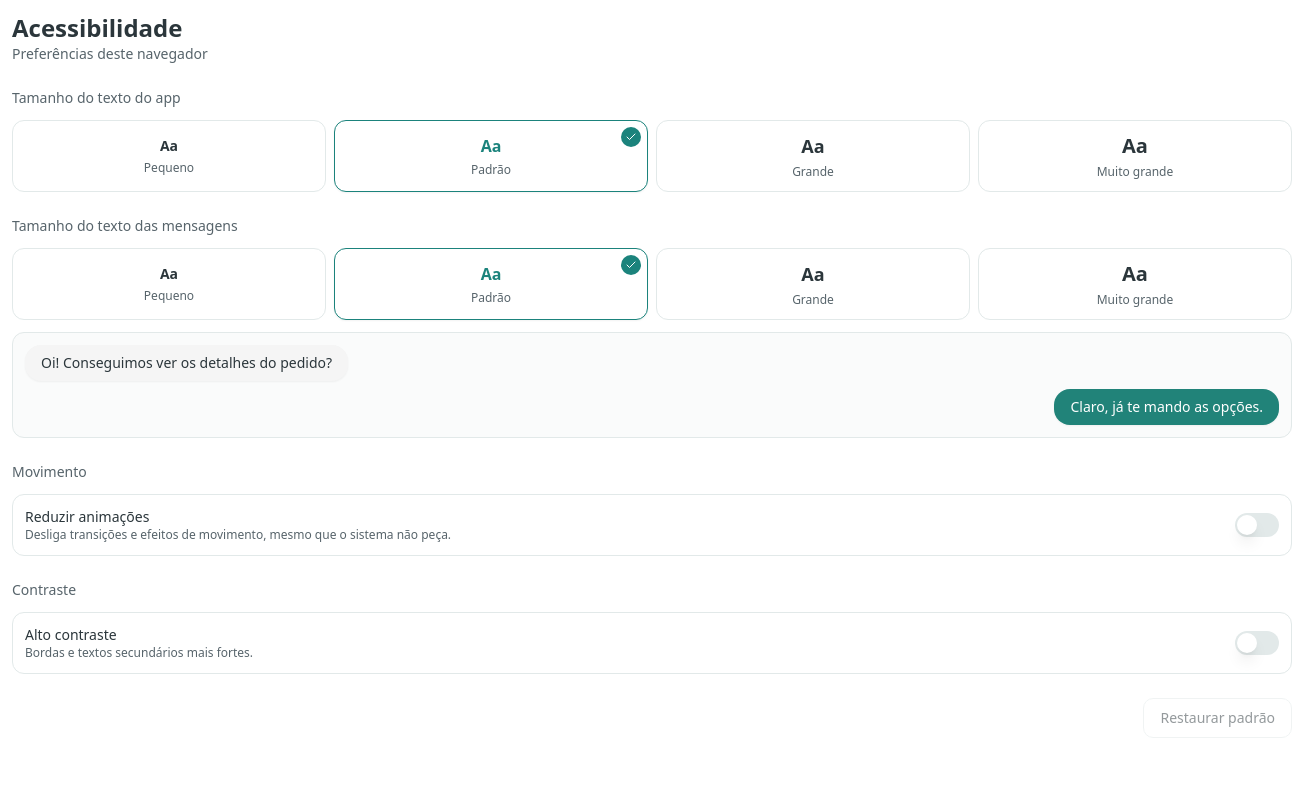
Test: AccessibilitySettings › restaurar padrão volta tudo e se desabilita sem perder o foco
Click the button "Aa Pequeno" below "Tamanho do texto do app".
click(169, 156)  # box [12, 120, 326, 192]
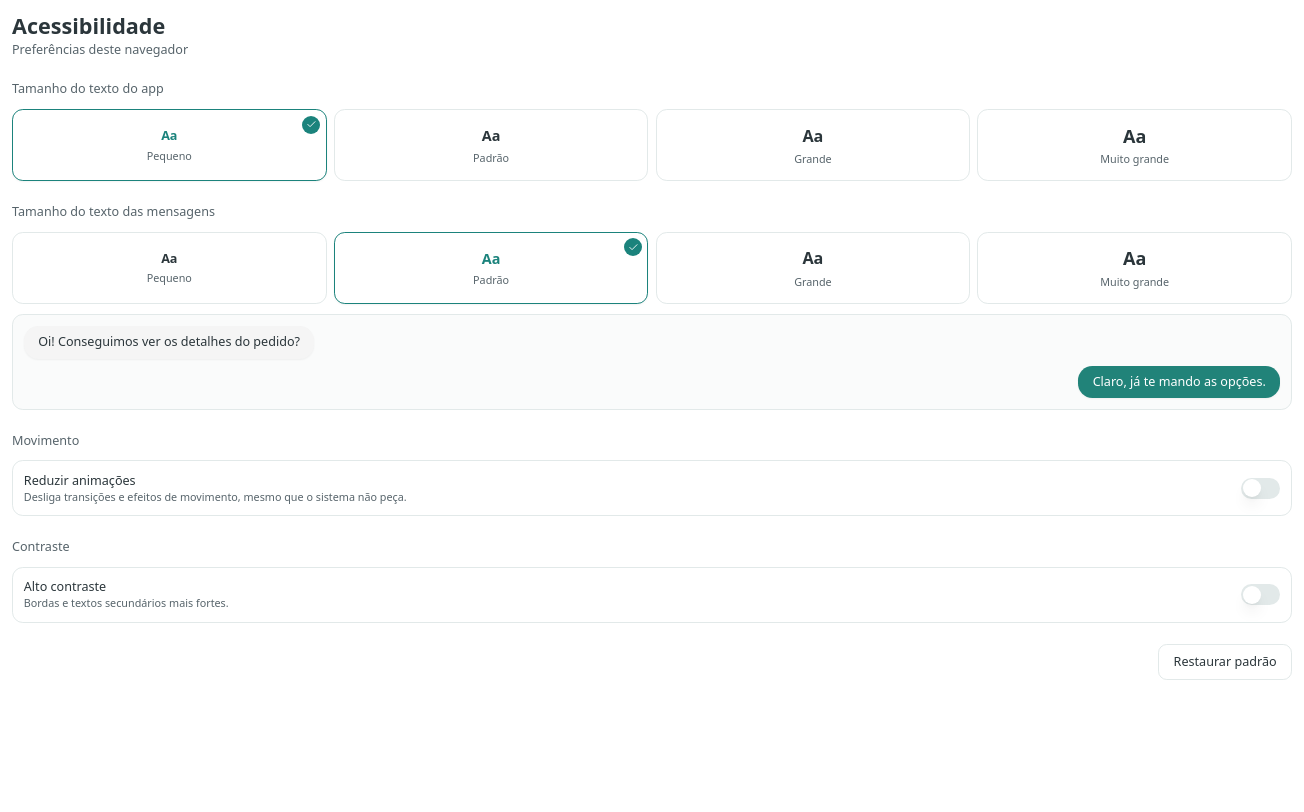
Click the switch labelled "Alto contraste".
click(65, 587)  # box [12, 567, 1292, 623]
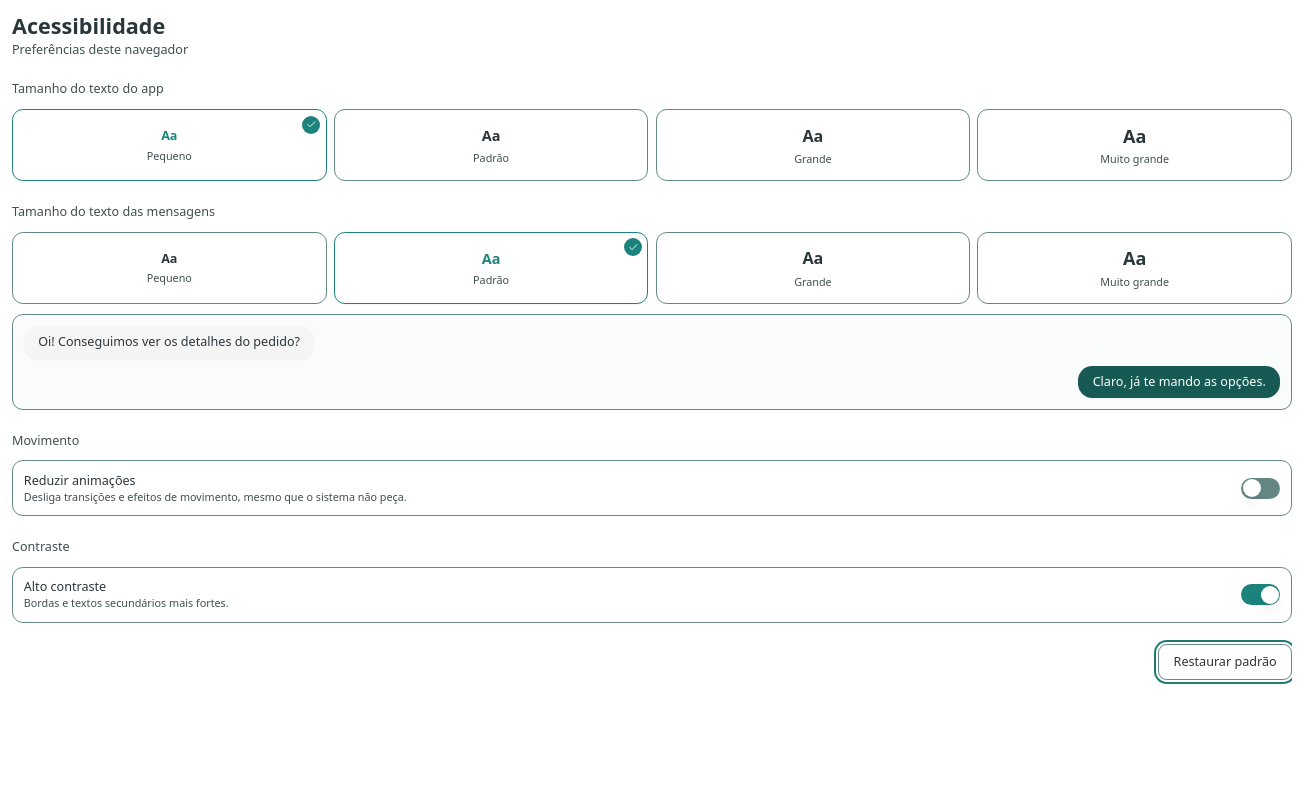
Expected: the button "Restaurar padrão" is enabled
Click the button "Restaurar padrão".
click(1225, 662)  # box [1158, 644, 1292, 680]
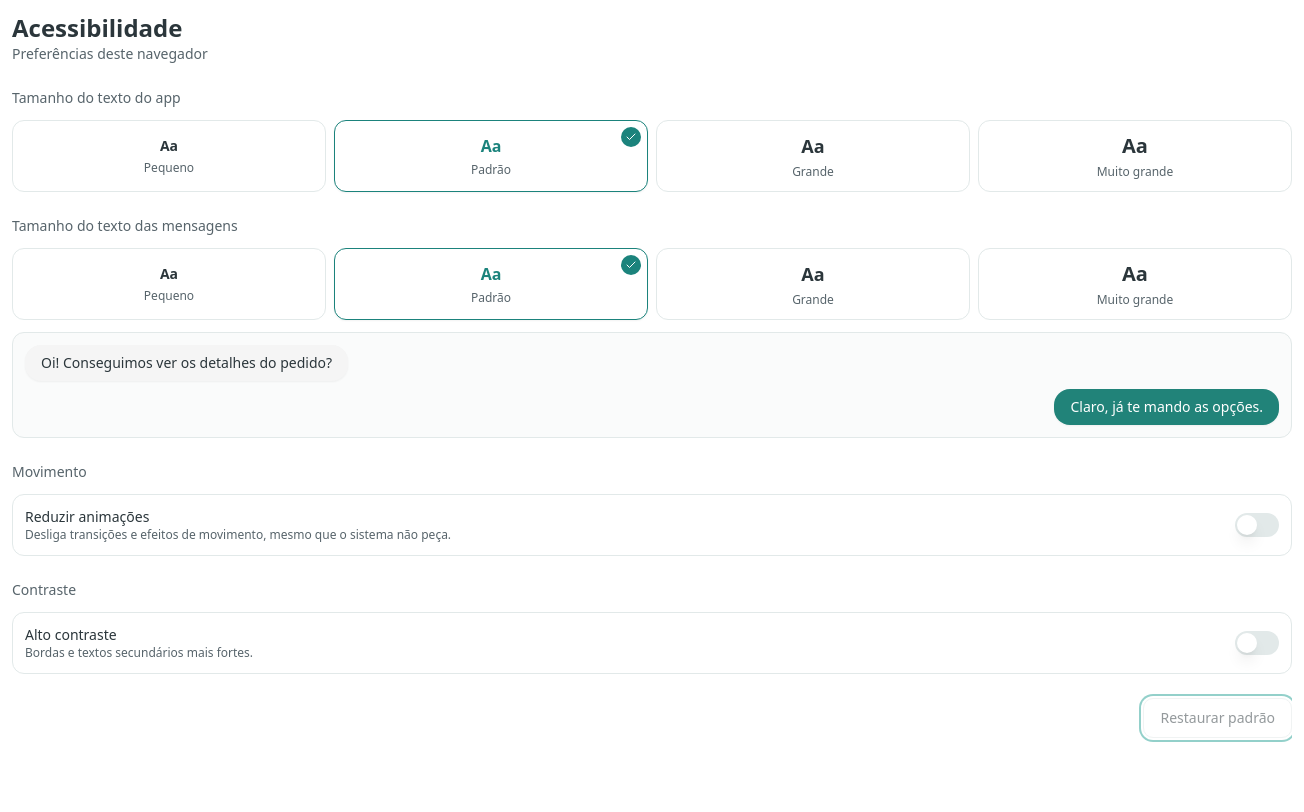
Expected: the button "Restaurar padrão" is enabled, [1143, 698, 1292, 738]
